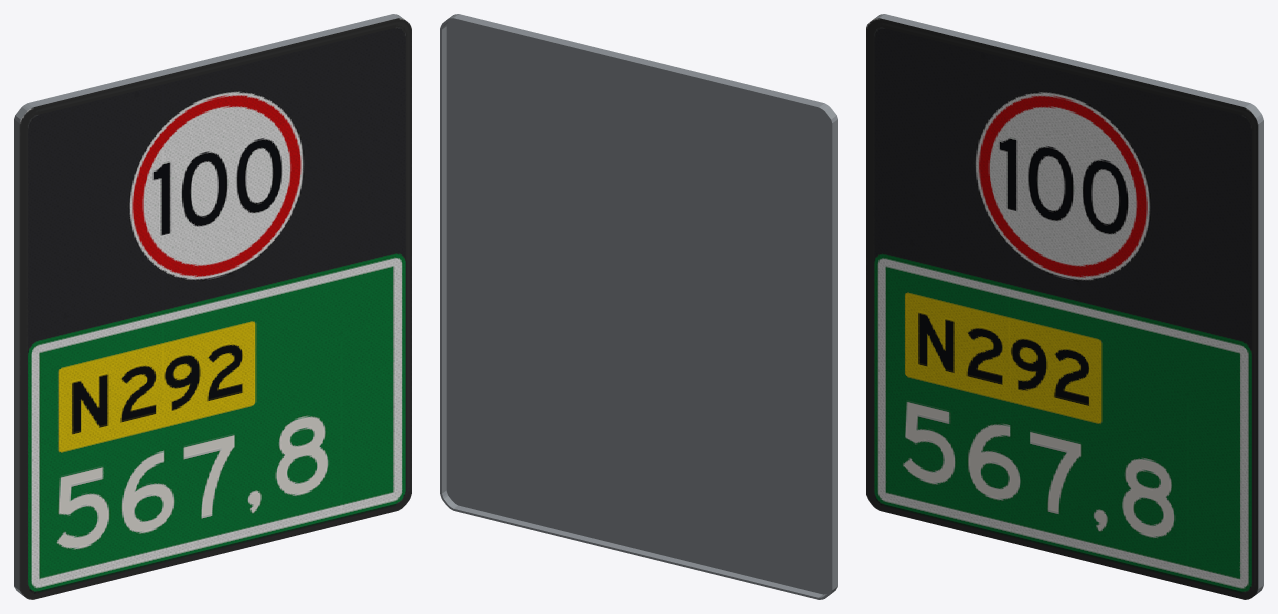
3 views of the same model, side by side, from view 1: azimuth 30°, elevation 25°; view 2: azimuth 150°, elevation 25°; view 3: azimuth 330°, elevation 25° (orthographic).
Visible parts, largest first — view 1: cat_fc9f5cdc821ffd75; view 2: cat_fc9f5cdc821ffd75; view 3: cat_fc9f5cdc821ffd75.
Boxes of the visible parts, x1,y1,x2,y2 form: cat_fc9f5cdc821ffd75: [14, 14, 411, 599]; cat_fc9f5cdc821ffd75: [440, 14, 837, 599]; cat_fc9f5cdc821ffd75: [866, 14, 1263, 599].
Size of the model in its own units: 0.6 by 0.015 by 0.72.
Materials: 2 (1 with a texture image).
